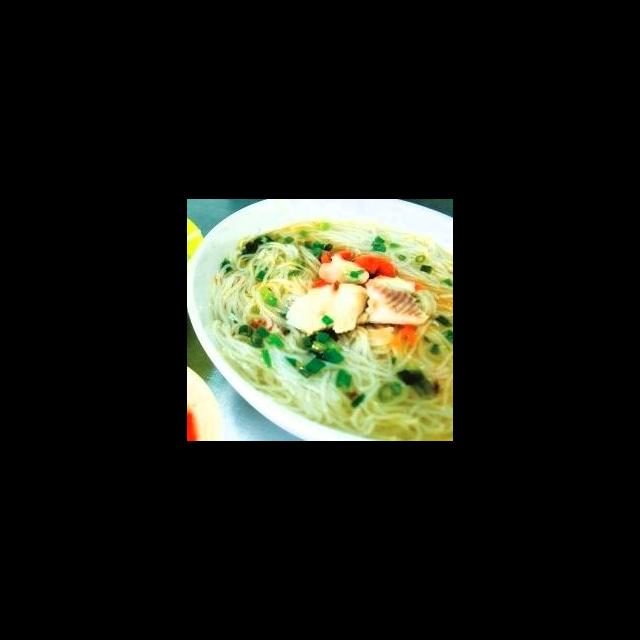bun: (240, 335, 453, 440), (206, 228, 318, 426), (311, 217, 453, 275)
bun ca: (197, 210, 450, 430)
ca: (282, 279, 374, 338), (358, 275, 434, 331)
